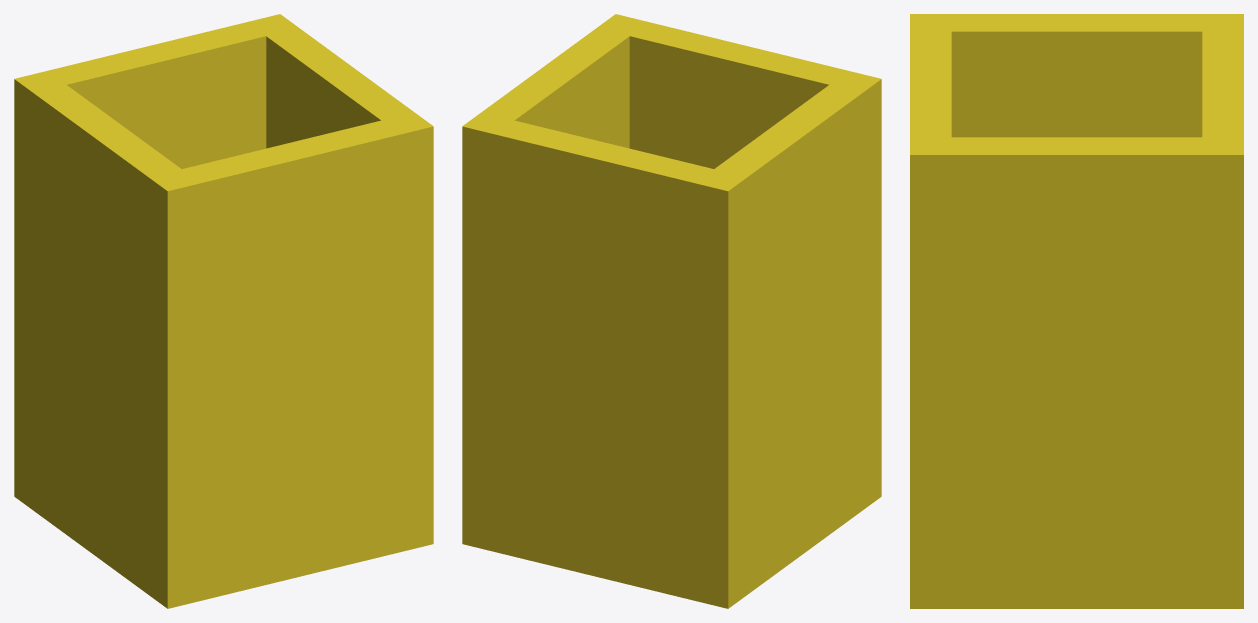
File: Shoe_L.fbx
3 renders of one model, left to right at view 1: azimuth 30°, elevation 25°; view 2: azimuth 150°, elevation 25°; view 3: azimuth 270°, elevation 25°, orthographic. The views are drawn at different scales.
Parts seen in each view (by area): view 1: Cube.022; view 2: Cube.022; view 3: Cube.022.
Part boxes in pixels (<box>): Cube.022: <box>14,14,433,608</box>; Cube.022: <box>462,14,881,608</box>; Cube.022: <box>910,14,1243,608</box>.
Size of the model in its own units: 28.11 by 42.17 by 28.11.
